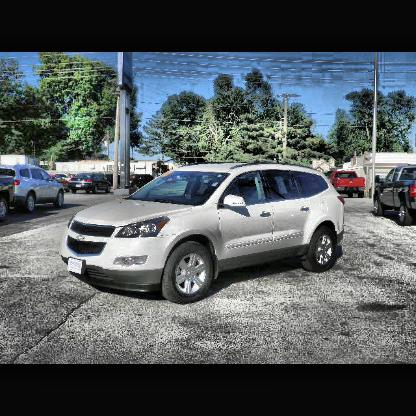Chevrolet Traverse SUV 2012: (57, 160, 348, 307)
